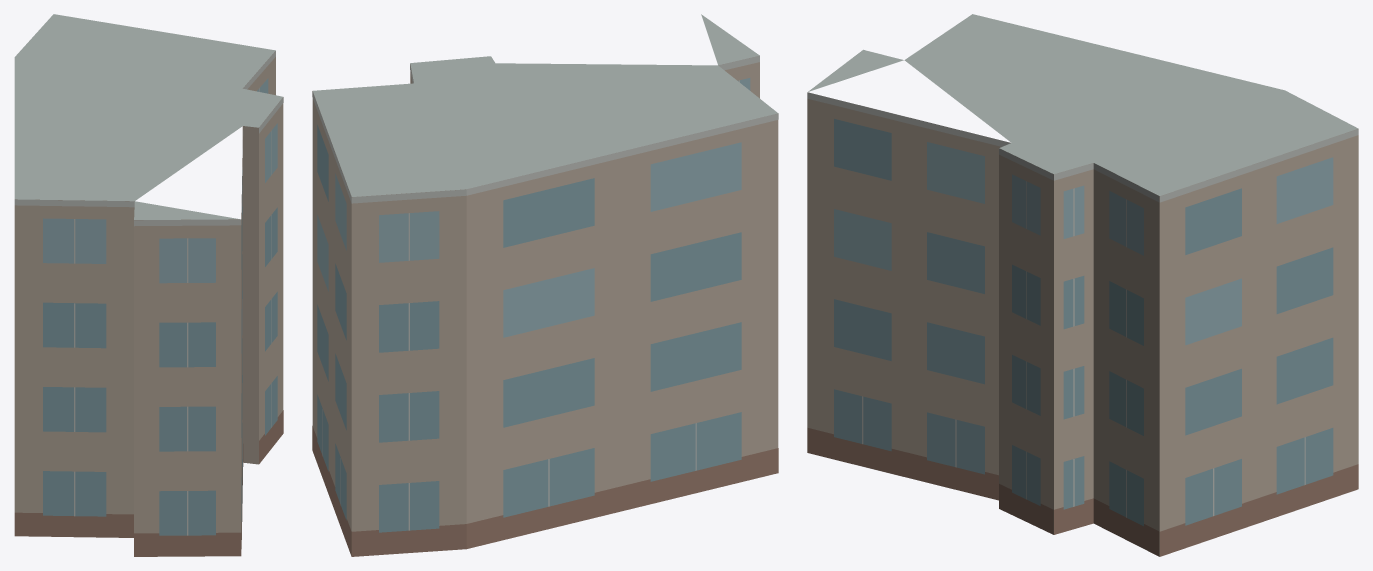
File: survey-upis-32707405.glb
The picture shows the model from 3 angles, left to right: view 1: azimuth 30°, elevation 25°; view 2: azimuth 150°, elevation 25°; view 3: azimuth 270°, elevation 25°; orthographic projection. The views are drawn at different scales.
Visible parts, largest first — view 1: survey-upis-32707405.tmp; view 2: survey-upis-32707405.tmp; view 3: survey-upis-32707405.tmp.
Boxes of the visible parts, x1,y1,x2,y2 form: survey-upis-32707405.tmp: (14, 14, 283, 556); survey-upis-32707405.tmp: (312, 14, 778, 556); survey-upis-32707405.tmp: (807, 14, 1358, 556).
Size of the model in its own units: 14.76 by 13.61 by 18.86.
